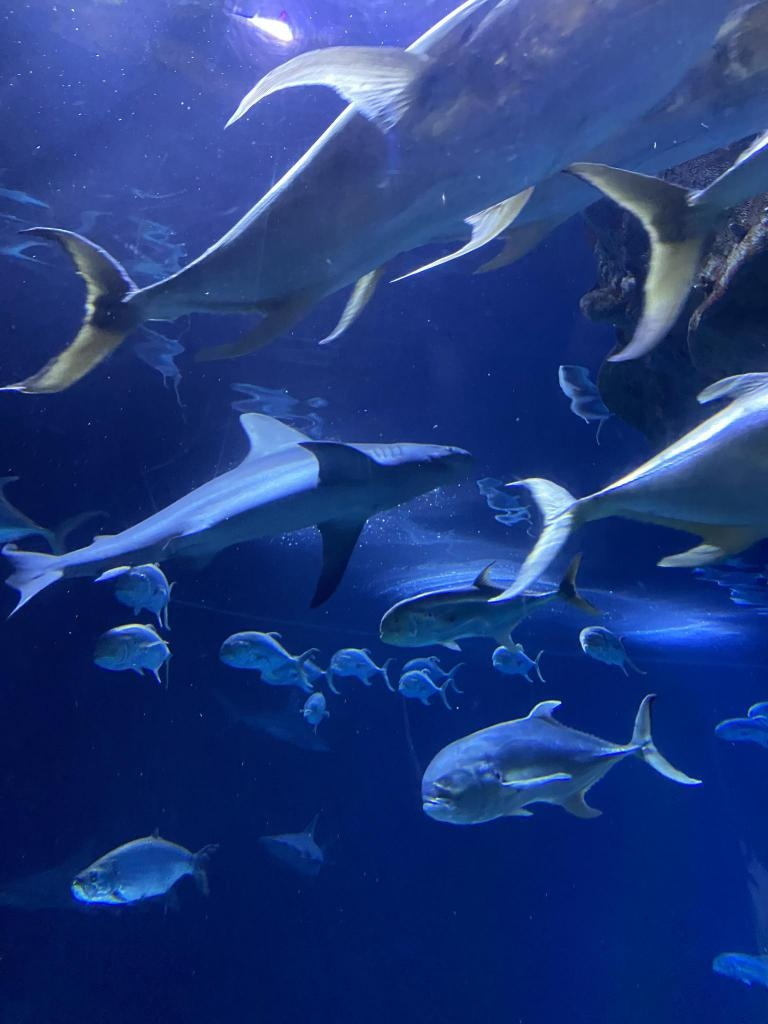fish: (1, 0, 733, 398), (488, 374, 768, 602), (561, 128, 768, 362), (421, 694, 701, 824), (381, 550, 605, 652), (71, 826, 221, 906), (1, 474, 110, 556), (222, 630, 322, 688), (94, 624, 172, 688), (115, 562, 176, 630), (579, 627, 647, 677), (262, 656, 341, 692), (330, 648, 396, 690), (711, 948, 768, 994), (494, 644, 548, 686), (400, 668, 454, 710), (715, 715, 765, 745), (404, 657, 466, 681), (300, 691, 330, 733)
shark: (1, 412, 473, 622), (258, 813, 334, 879)
